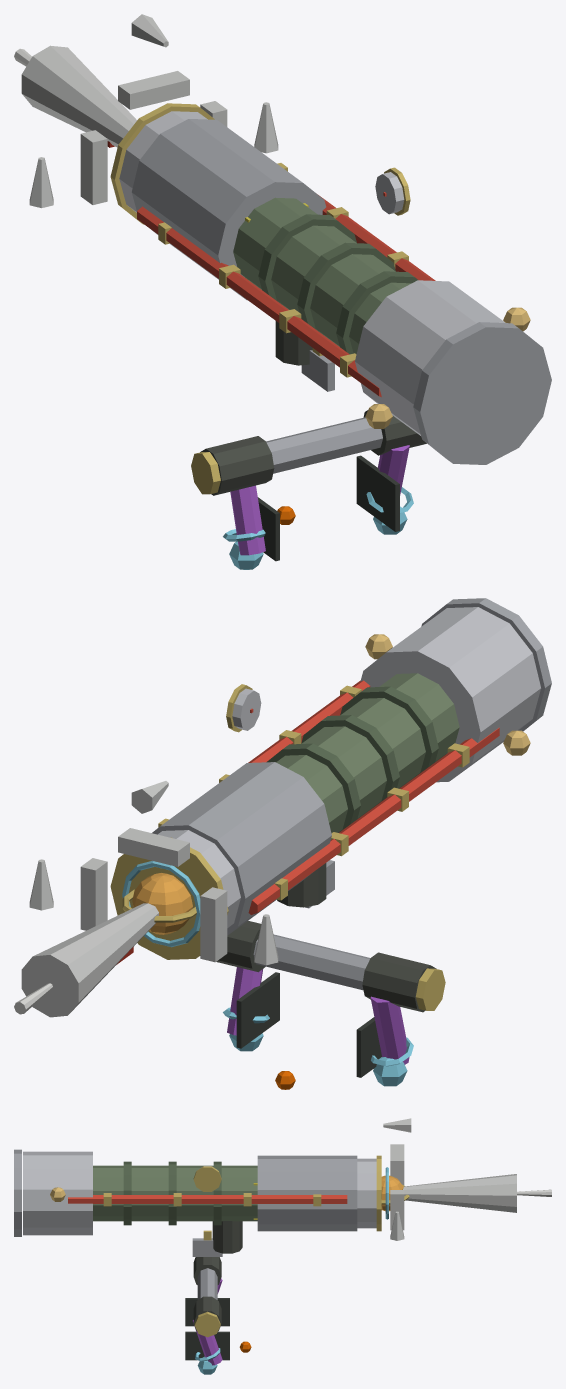
The model's file is jackhammer.glb.
3 views of the same model, one above another, from view 1: azimuth 30°, elevation 25°; view 2: azimuth 150°, elevation 25°; view 3: azimuth 270°, elevation 25° (orthographic). The views are drawn at different scales.
Visible parts, largest first — view 1: jackhammer; view 2: jackhammer; view 3: jackhammer.
Boxes of the visible parts, x1,y1,x2,y2 form: jackhammer: (14, 14, 551, 569); jackhammer: (14, 598, 551, 1089); jackhammer: (14, 1118, 551, 1374).
Size of the model in its own units: 0.166 by 0.261 by 0.539.
